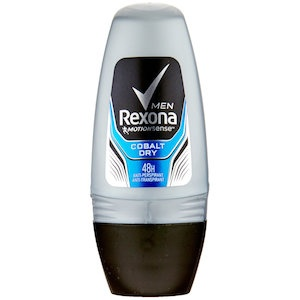rexona: (89, 3, 211, 297)
